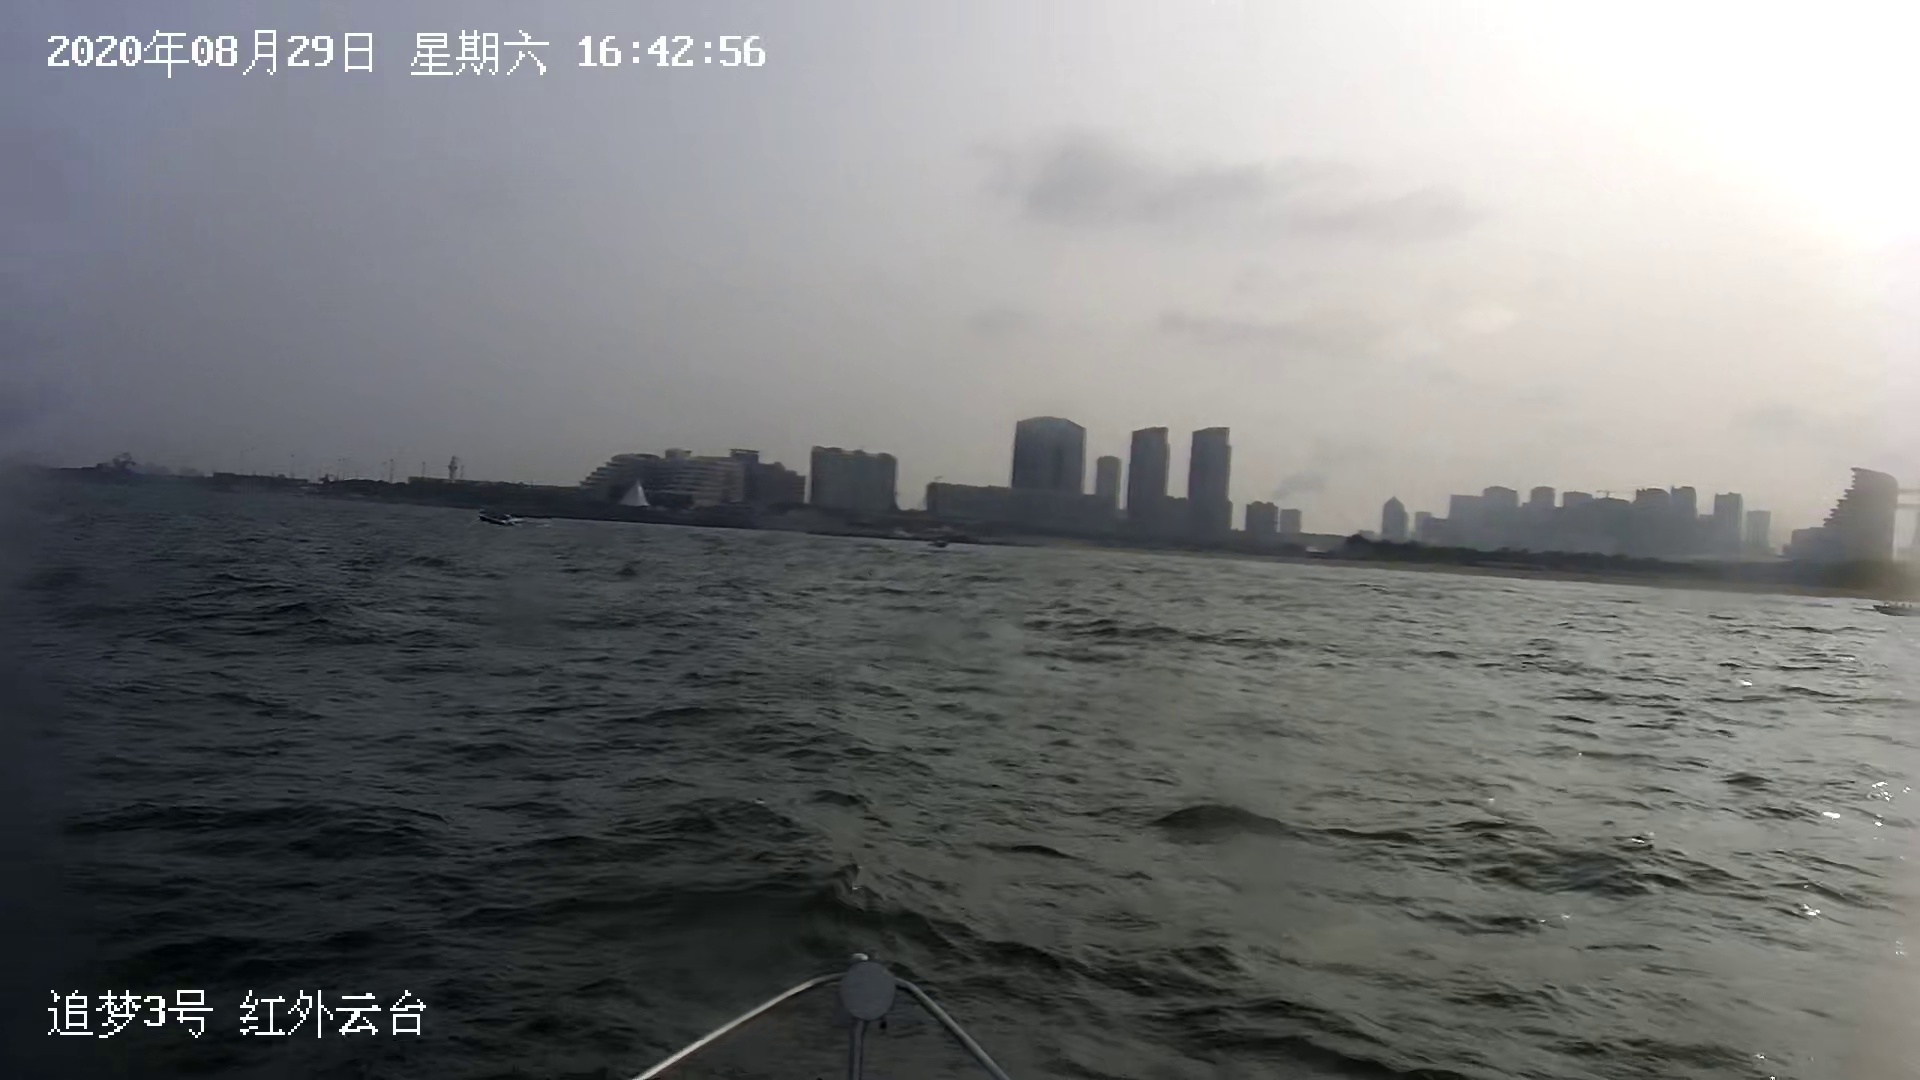barrier: (479, 508, 524, 527), (1874, 604, 1920, 616)
coast: (7, 407, 1920, 603)
